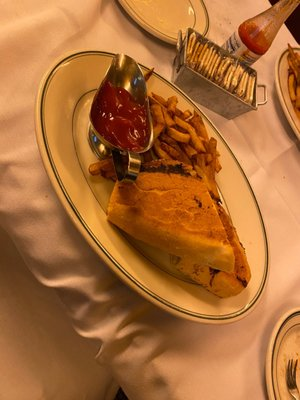curry: (0, 1, 299, 346)
